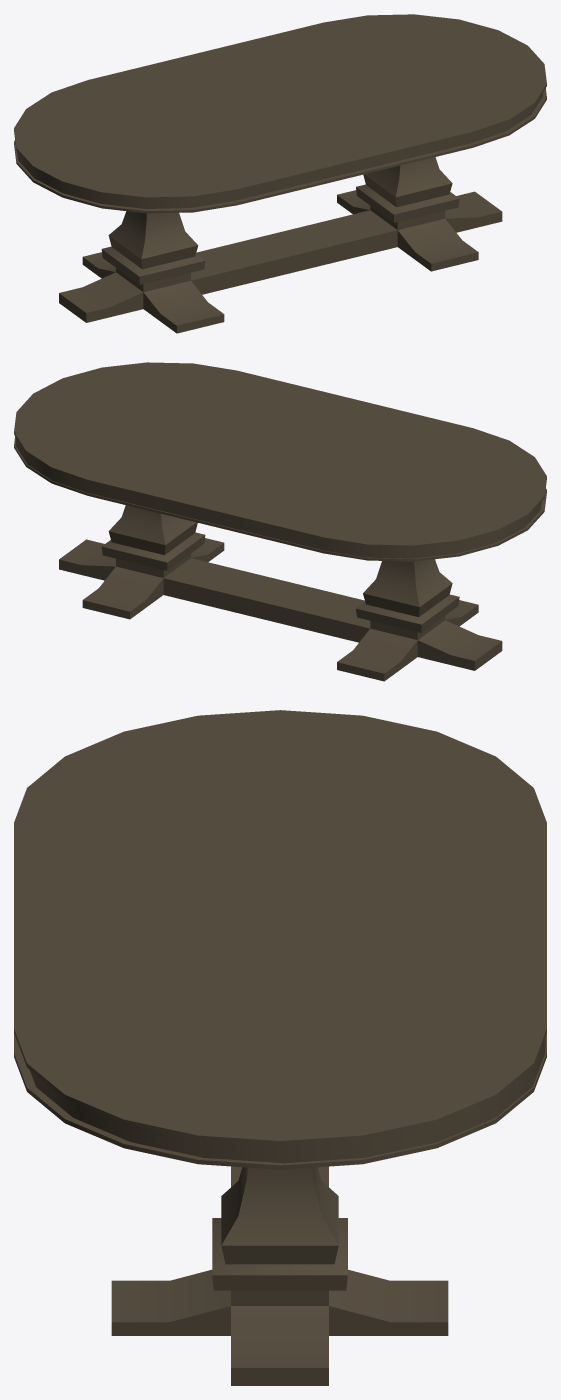
Rendered from table-round-large.glb.
3 renders of one model, top to bottom at view 1: azimuth 30°, elevation 25°; view 2: azimuth 150°, elevation 25°; view 3: azimuth 270°, elevation 25°, orthographic. The views are drawn at different scales.
Parts seen in each view (by area): view 1: Table_RoundLarge; view 2: Table_RoundLarge; view 3: Table_RoundLarge.
Part boxes in pixels (box(x1,y1,x2,y2)): Table_RoundLarge: box(14, 14, 546, 333); Table_RoundLarge: box(14, 362, 546, 681); Table_RoundLarge: box(14, 710, 546, 1385).
Bounding box in the file's own units: 3.71 × 1.12 × 1.94.
